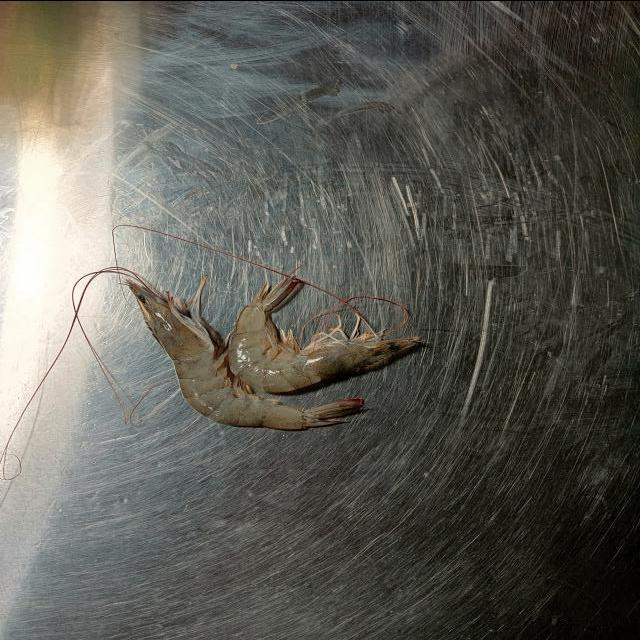shrimp: (126, 278, 364, 429), (229, 278, 423, 391)
